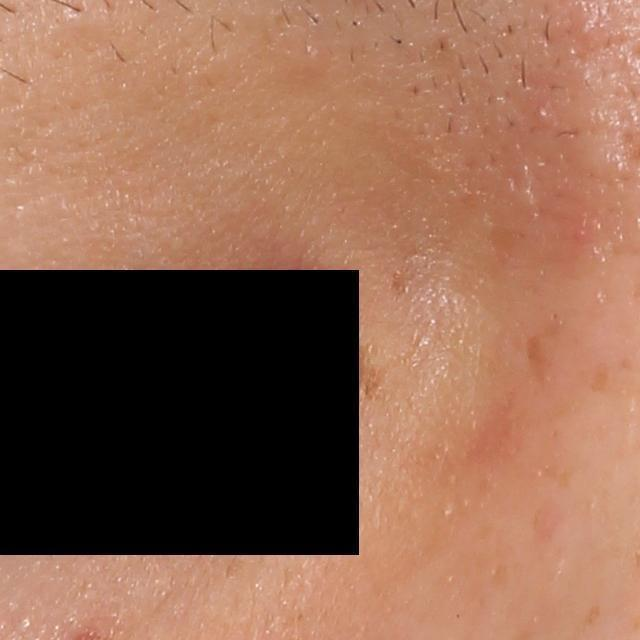melasma: (523, 325, 558, 382), (584, 355, 620, 400), (360, 359, 391, 405), (390, 268, 414, 297)
